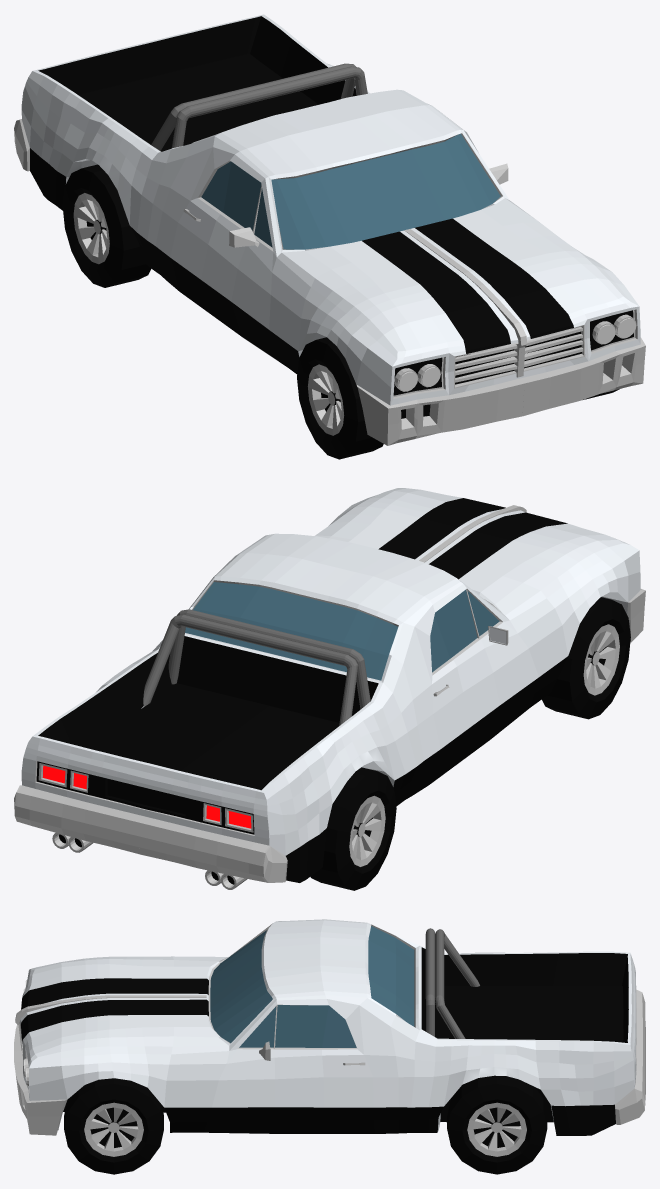
The model's file is PickupCar.fbx.
The picture shows the model from 3 angles, top to bottom: view 1: azimuth 30°, elevation 25°; view 2: azimuth 150°, elevation 25°; view 3: azimuth 270°, elevation 25°; orthographic projection. The views are drawn at different scales.
Visible parts, largest first — view 1: Cube, WhellBR, WhellFR; view 2: Cube, WhellBR, WhellFR; view 3: Cube, WhellBL, WhellFL.
Part boxes in pixels (x1,y1,x2,y2): Cube: (14,14,645,445); WhellBR: (62,164,151,287); WhellFR: (297,337,383,459); Cube: (14,488,645,889); WhellBR: (310,767,396,890); WhellFR: (542,597,630,719); Cube: (14,919,645,1135); WhellBL: (447,1075,547,1174); WhellFL: (64,1078,163,1174).
Size of the model in its own units: 265 by 185 by 629.
